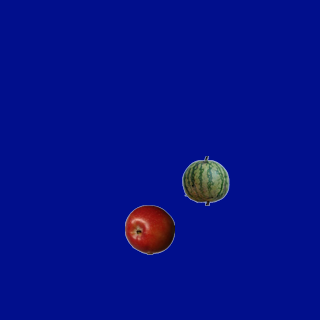Apple Braeburn: (124, 204, 174, 254)
Watermelon: (180, 155, 230, 205)
